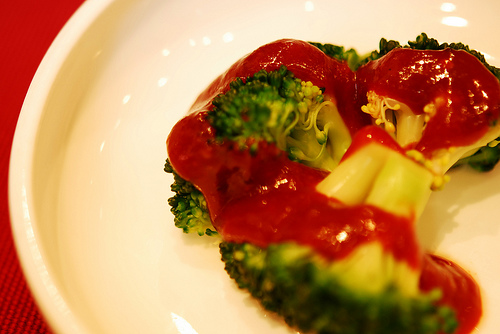broccoli: (220, 141, 460, 333), (165, 39, 360, 239), (356, 31, 499, 179)
